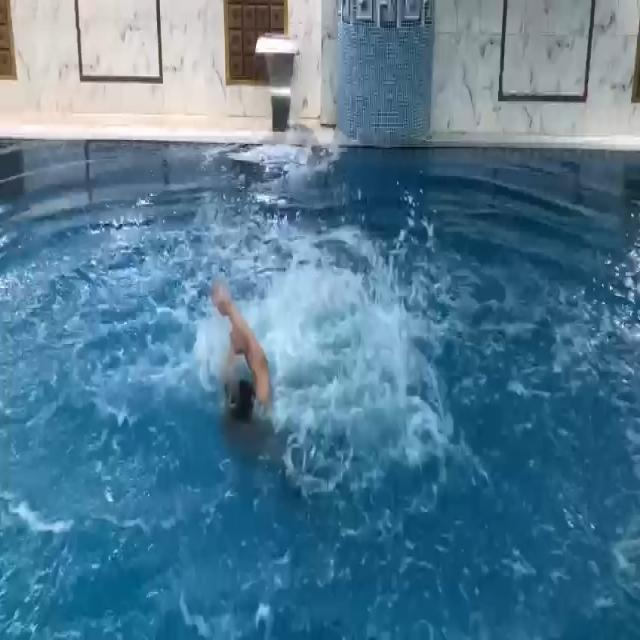Drowning: (209, 284, 279, 428)
